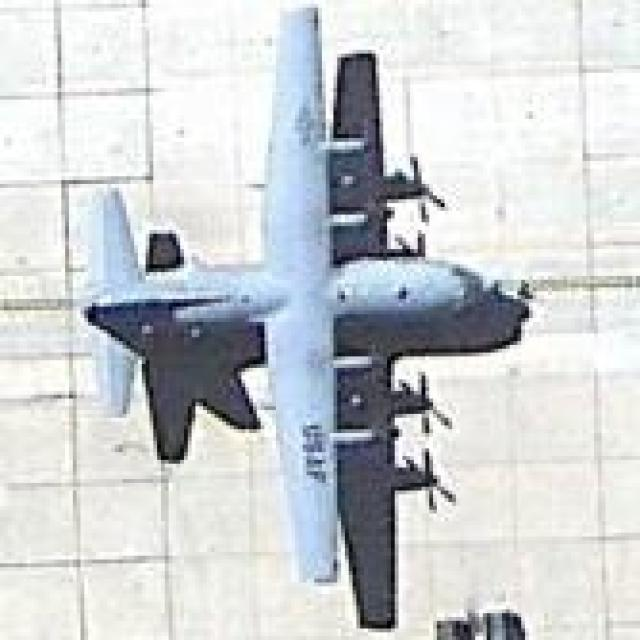C-130_TopDown: (72, 1, 538, 636)
